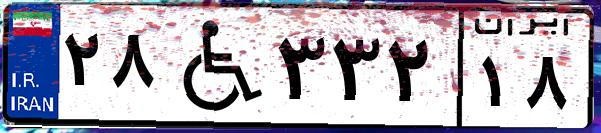1: (475, 38, 525, 113)
2: (385, 28, 445, 110), (57, 26, 110, 100)
3: (270, 28, 330, 110), (330, 28, 385, 110)
8: (525, 38, 570, 115), (110, 28, 158, 98)
ژ (معلولین و جانبازان): (158, 12, 270, 120)
